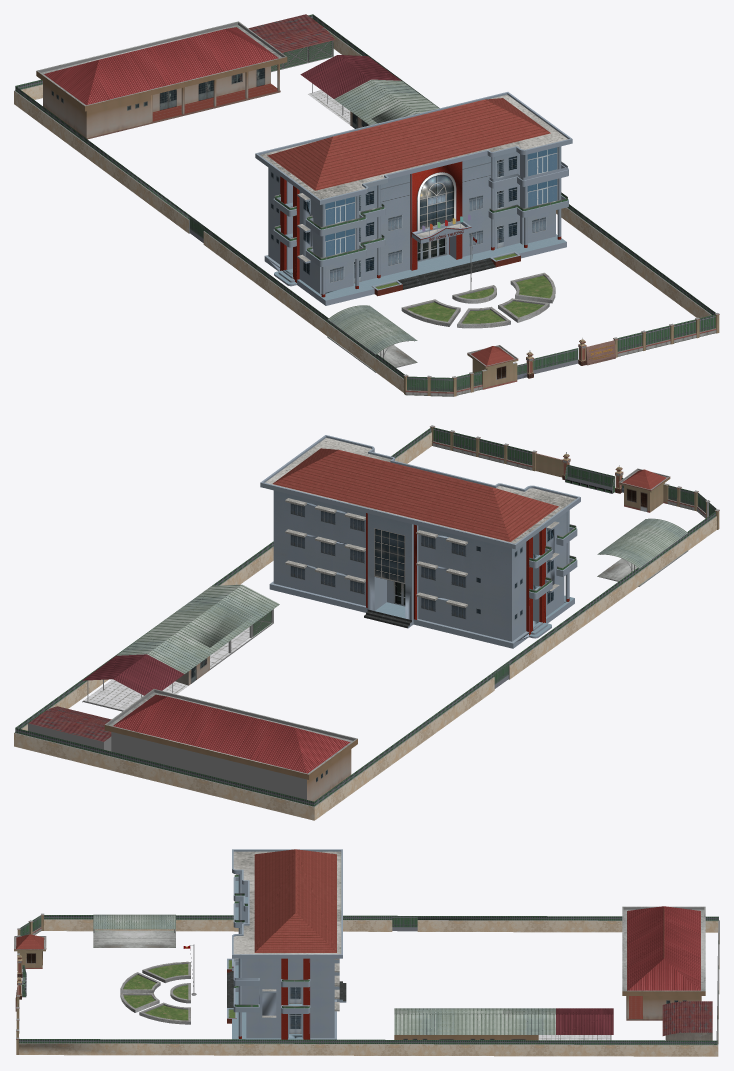
File: So cong thuong.glb
3 views of the same model, one above another, from view 1: azimuth 30°, elevation 25°; view 2: azimuth 150°, elevation 25°; view 3: azimuth 270°, elevation 25° (orthographic). The views are drawn at different scales.
Visible parts, largest first — view 1: 02_Cong_trinh_chinh, 03_Cong_trinh_phu, 01_Hang_rao_Nha_bao_ve, 01_khuon vien vuon hoa, 03_Cong_trinh_nh xe; view 2: 02_Cong_trinh_chinh, 03_Cong_trinh_phu, 01_Hang_rao_Nha_bao_ve, 03_Cong_trinh_nh xe; view 3: 02_Cong_trinh_chinh, 01_Hang_rao_Nha_bao_ve, 03_Cong_trinh_phu, 01_khuon vien vuon hoa, 03_Cong_trinh_nh xe.
Boxes of the visible parts, <box> form: 02_Cong_trinh_chinh: <box>255,92,572,305</box>; 03_Cong_trinh_phu: <box>36,14,438,139</box>; 01_Hang_rao_Nha_bao_ve: <box>14,14,719,396</box>; 01_khuon vien vuon hoa: <box>401,233,555,328</box>; 03_Cong_trinh_nh xe: <box>327,305,417,372</box>; 02_Cong_trinh_chinh: <box>260,435,580,648</box>; 03_Cong_trinh_phu: <box>28,584,357,801</box>; 01_Hang_rao_Nha_bao_ve: <box>14,425,719,820</box>; 03_Cong_trinh_nh xe: <box>597,518,688,586</box>; 02_Cong_trinh_chinh: <box>227,849,346,1039</box>; 01_Hang_rao_Nha_bao_ve: <box>14,913,719,1056</box>; 03_Cong_trinh_phu: <box>394,906,712,1040</box>; 01_khuon vien vuon hoa: <box>120,944,196,1024</box>; 03_Cong_trinh_nh xe: <box>93,914,175,947</box>.
Bounding box in the file's own units: 36 × 14.9 × 84.69.
3 materials, 3 textured.
